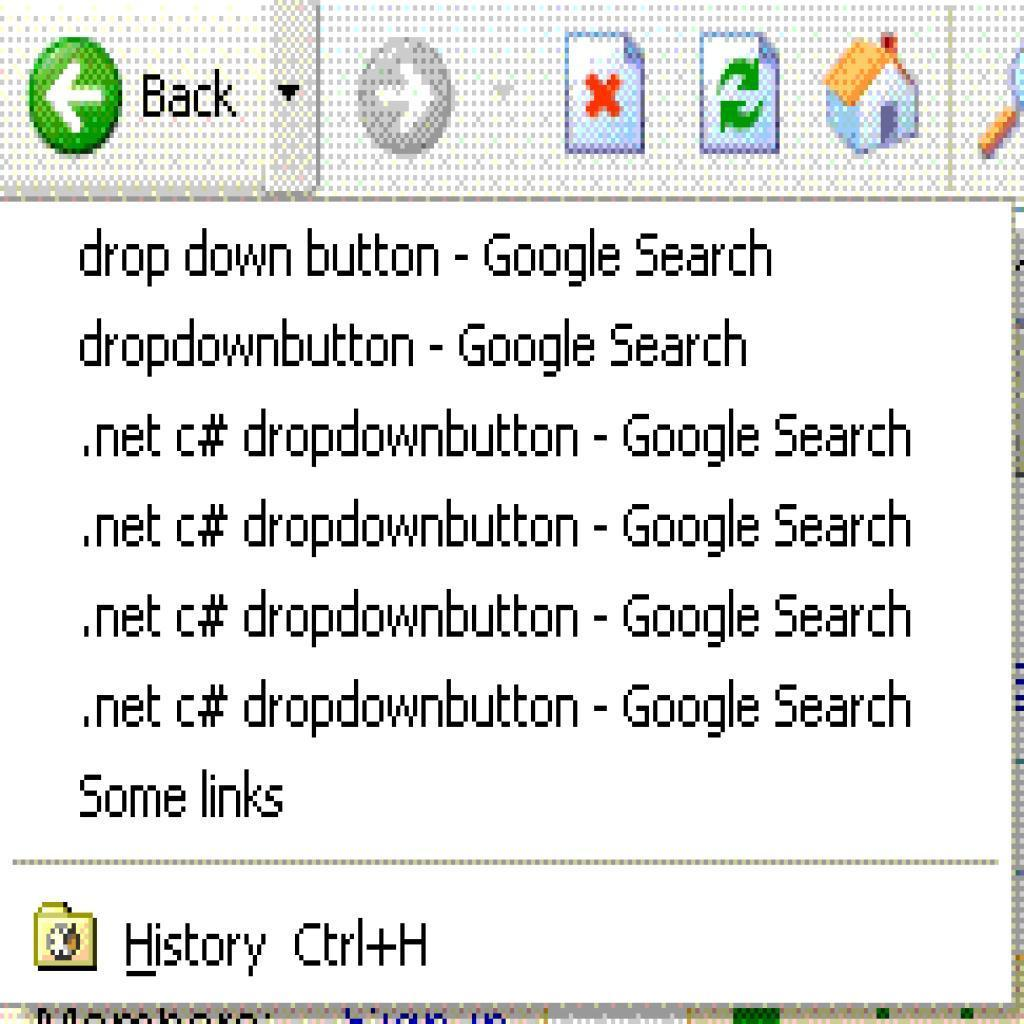dropdown: (1, 1, 322, 201)
icon: (820, 31, 925, 163), (358, 30, 459, 163), (560, 27, 653, 161), (695, 28, 787, 162), (28, 901, 109, 979)
